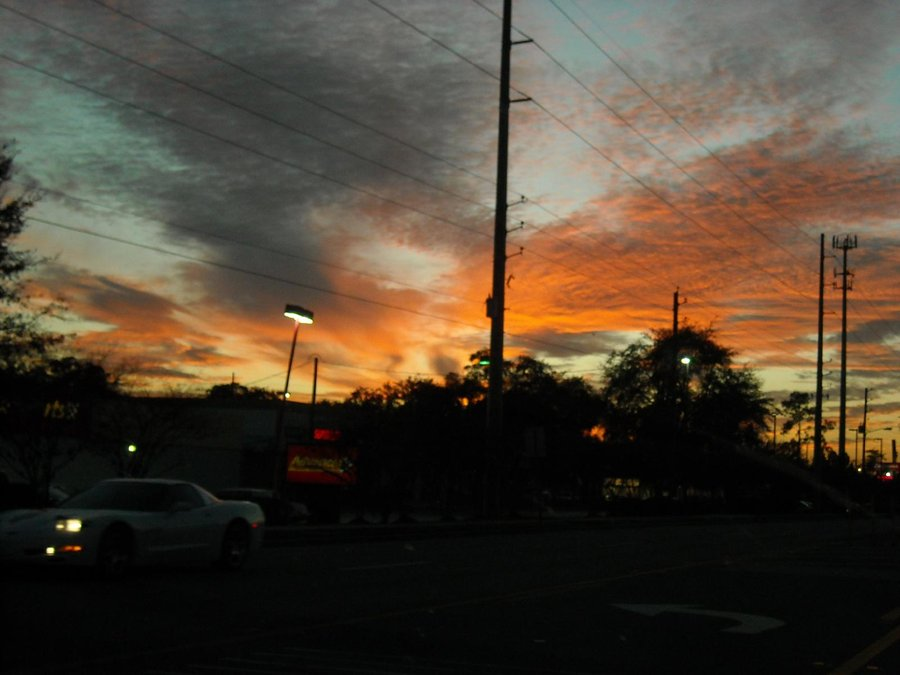car: (2, 475, 269, 581)
